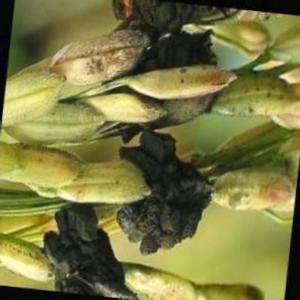Leaf_Scald: (126, 129, 204, 243), (52, 207, 121, 300)
